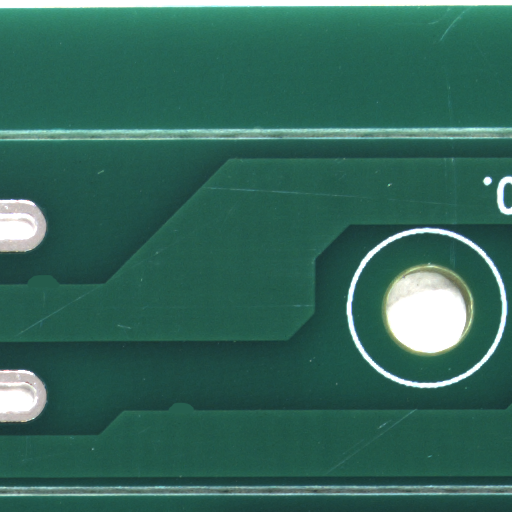Spur: (41, 280, 75, 294), (181, 407, 211, 418)
